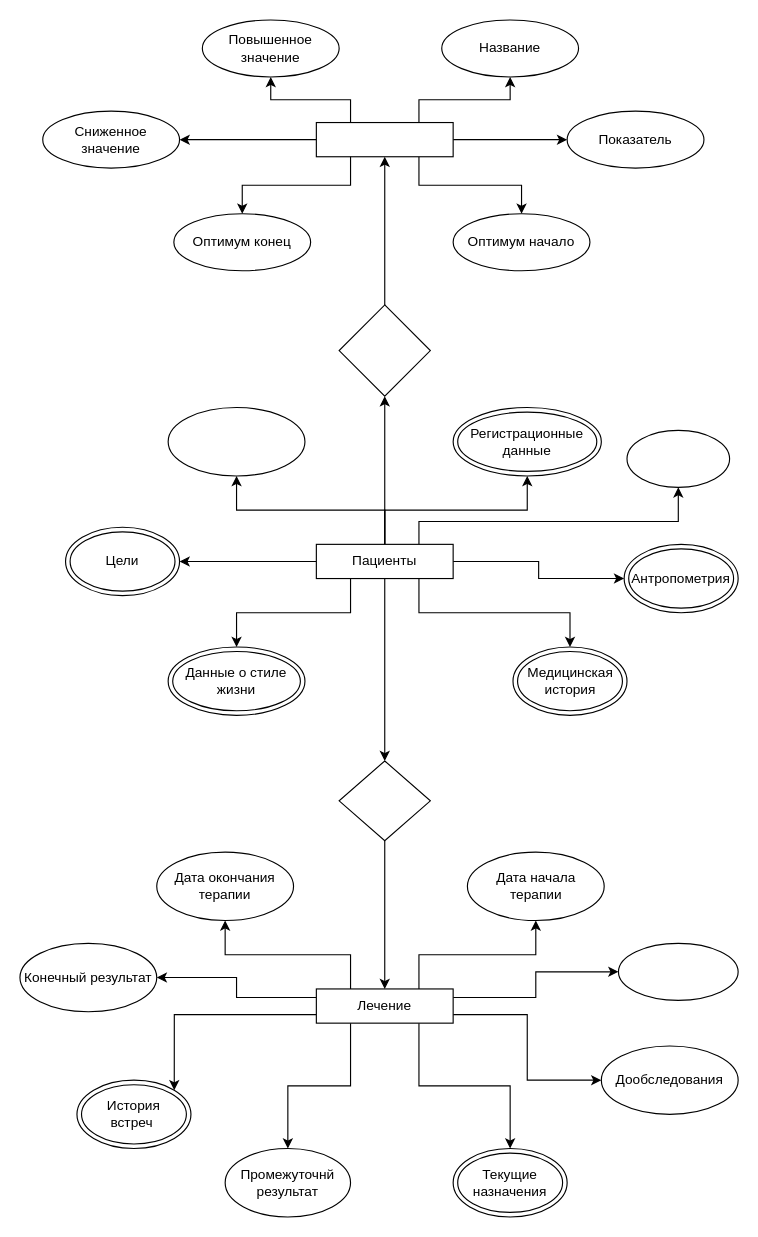
This 758x1237 diagram has some shape labels left out. Here are the shapes that lost their labels. From the top down, the box of each, then its label:
(315, 121, 453, 157): Анализы
(338, 304, 430, 396): Сдают
(167, 406, 305, 476): Номер карты пациента
(626, 429, 730, 487): Краткий анамнез
(338, 760, 430, 841): Получают
(617, 942, 738, 1000): Рекомендации
